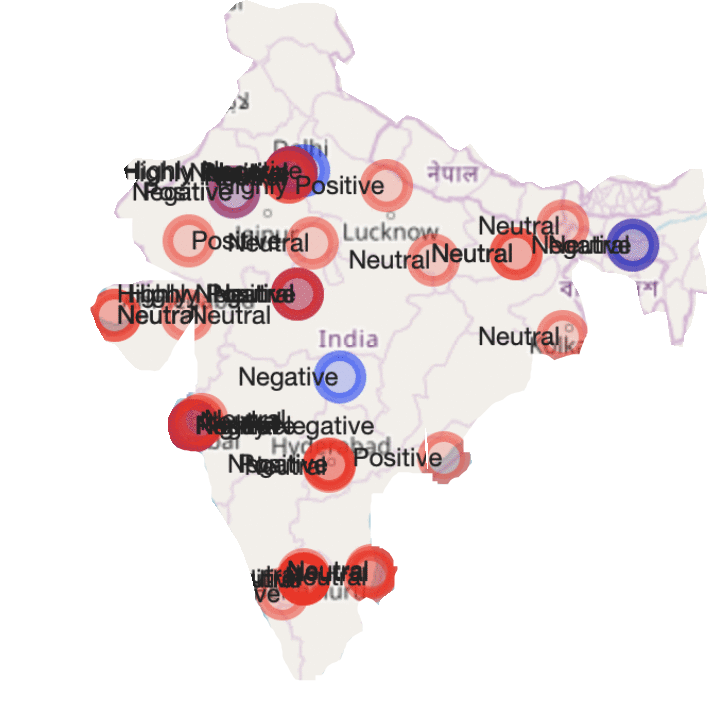

This screenshot's page, from the dashboard's own definition file:
{"tool":"tableau","page":{"name":"Cities","canvas":[1300,750],"ordinal":0},"visuals":[{"type":"worksheet","title":"Map","mark":"Shape","rows":["Long"],"cols":["Lat"],"box":[12,60,1273,492]},{"type":"text","box":[70,579,1161,115]}]}

Visuals, with their boxes on the page's 1300x750 design canvas (x1, y1, x2, y2). These are canvas units, not pixel positions in the 707x718 screenshot, which may show the page scaled, cropped or inside an application window:
"Map" worksheet (Shape marks): (x1=12, y1=60, x2=1285, y2=552)
text: (x1=70, y1=579, x2=1231, y2=694)
